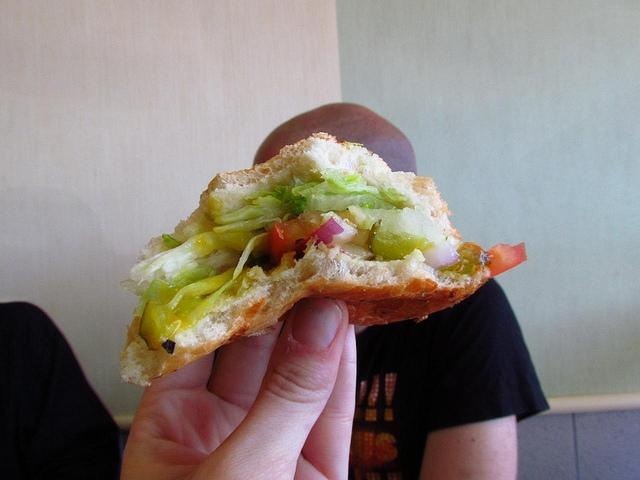lettuce: (130, 231, 254, 286), (214, 174, 322, 224), (133, 264, 215, 316), (306, 194, 398, 211), (213, 218, 274, 233), (252, 196, 283, 222)
onion: (294, 212, 358, 262), (422, 240, 460, 268)
tomato: (268, 218, 322, 266), (484, 242, 528, 280)
